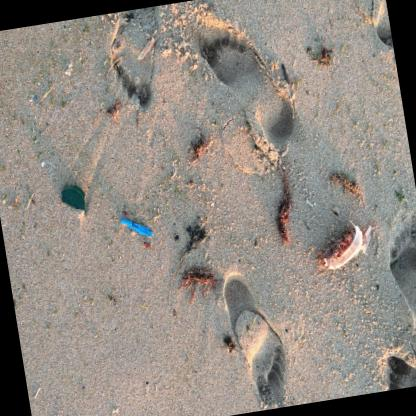Plastic: (322, 219, 370, 269), (60, 185, 84, 211), (119, 218, 151, 237)
